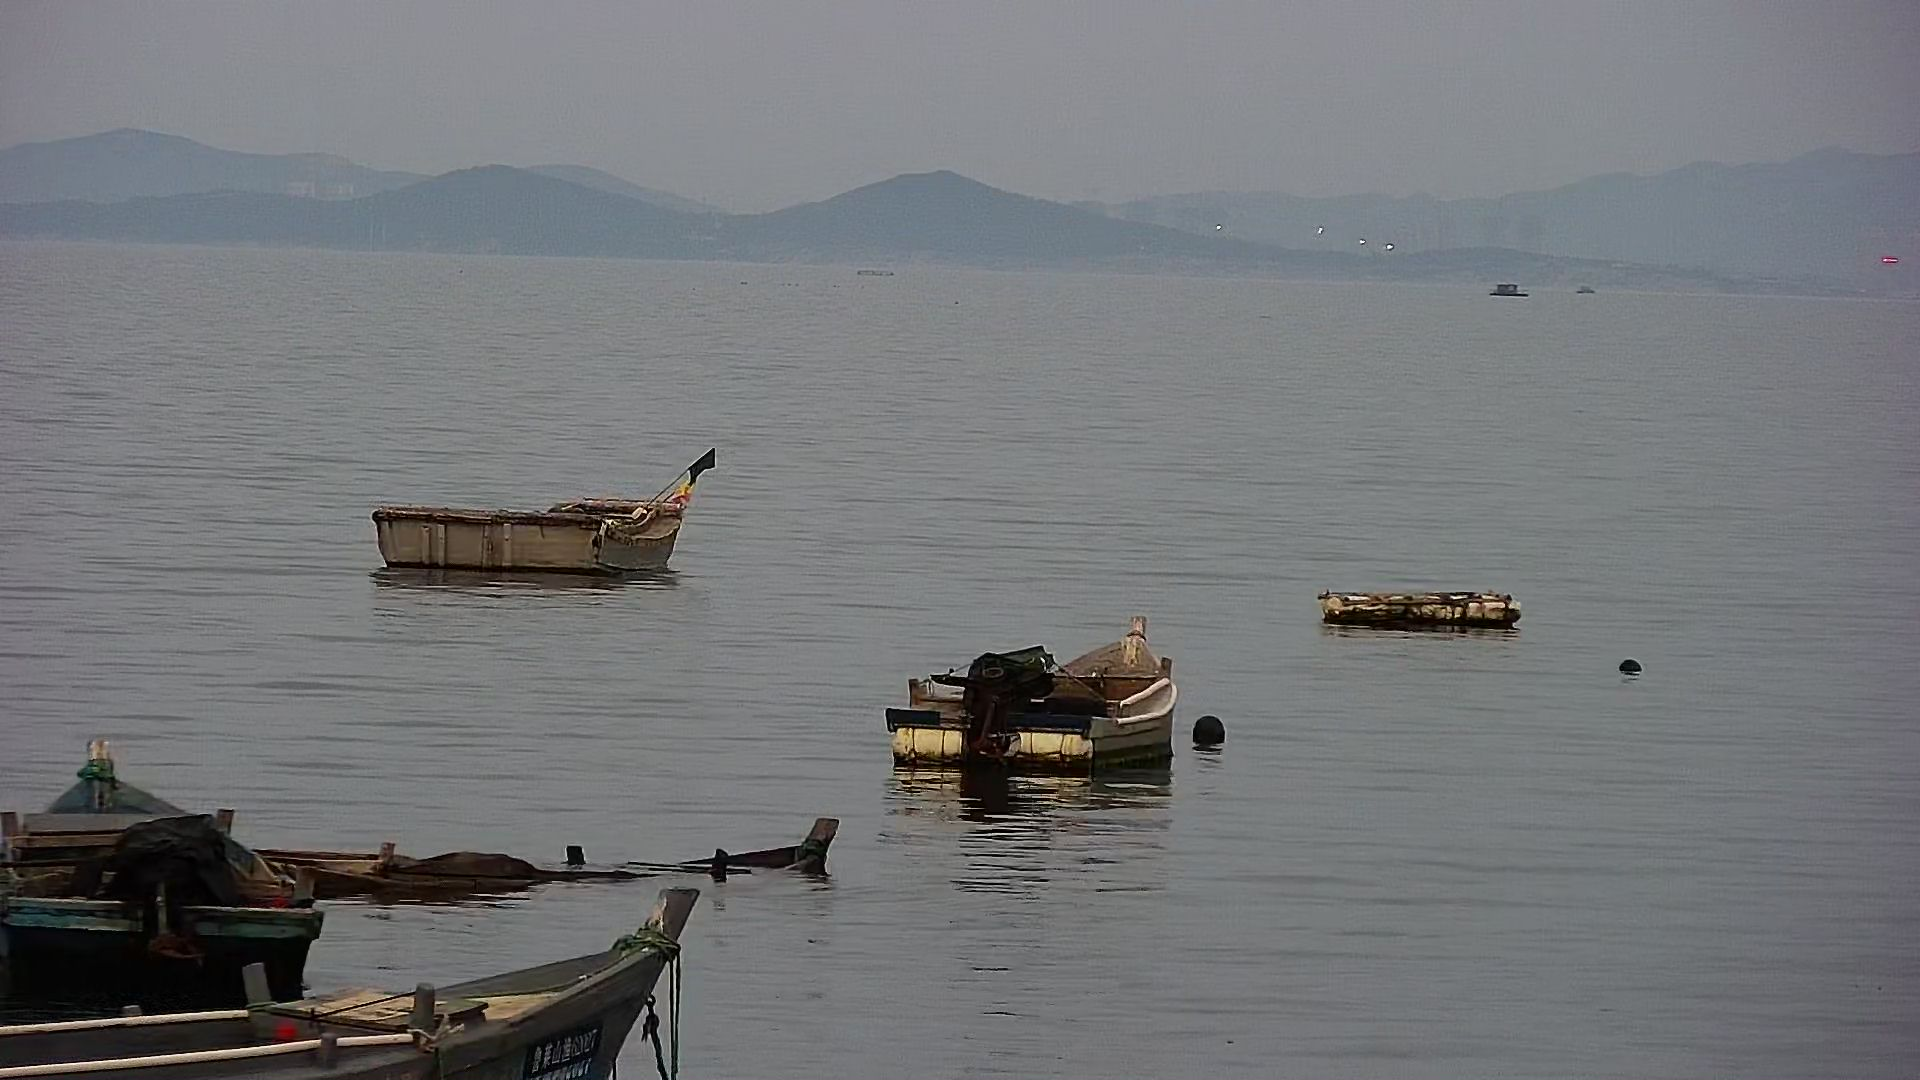ball: (1185, 709, 1236, 760), (1615, 651, 1659, 678)
boat: (1, 891, 695, 1073), (881, 611, 1197, 794), (369, 459, 705, 578)
rubbish: (291, 761, 858, 934), (1320, 582, 1528, 642)
